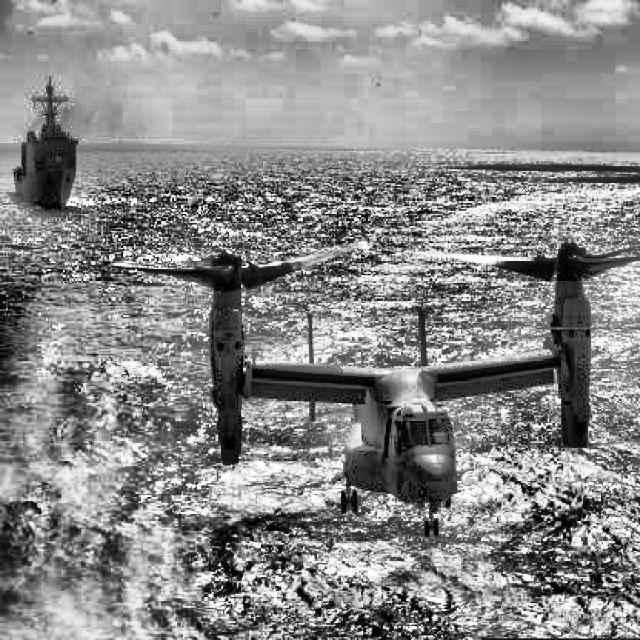V22: (107, 239, 639, 538)
